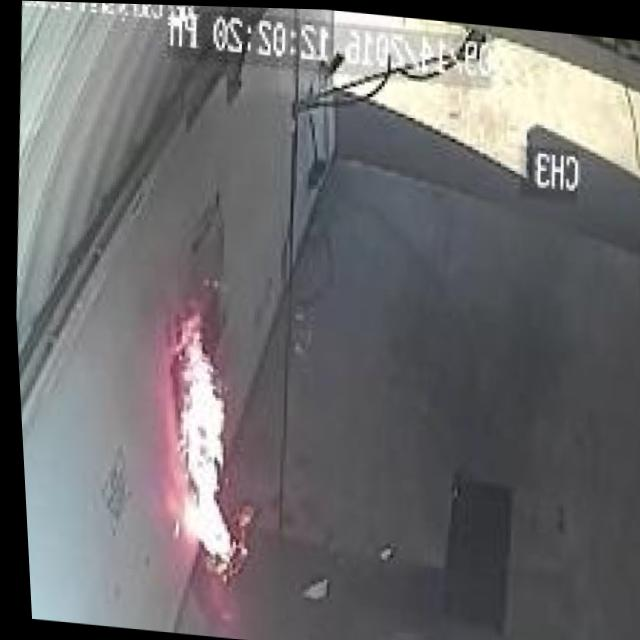fire: (137, 288, 253, 581)
